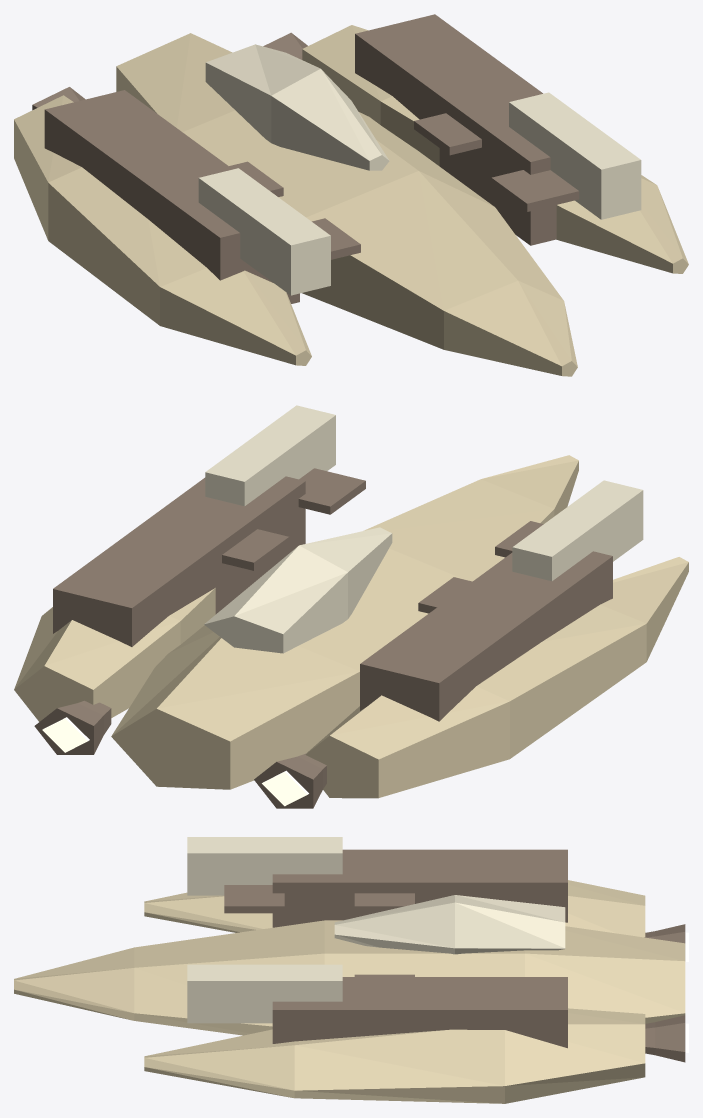
3 views of the same model, one above another, from view 1: azimuth 30°, elevation 25°; view 2: azimuth 150°, elevation 25°; view 3: azimuth 270°, elevation 25° (orthographic). The views are drawn at different scales.
Bounding box in the file's own units: 12.44 × 3.85 × 17.38.
